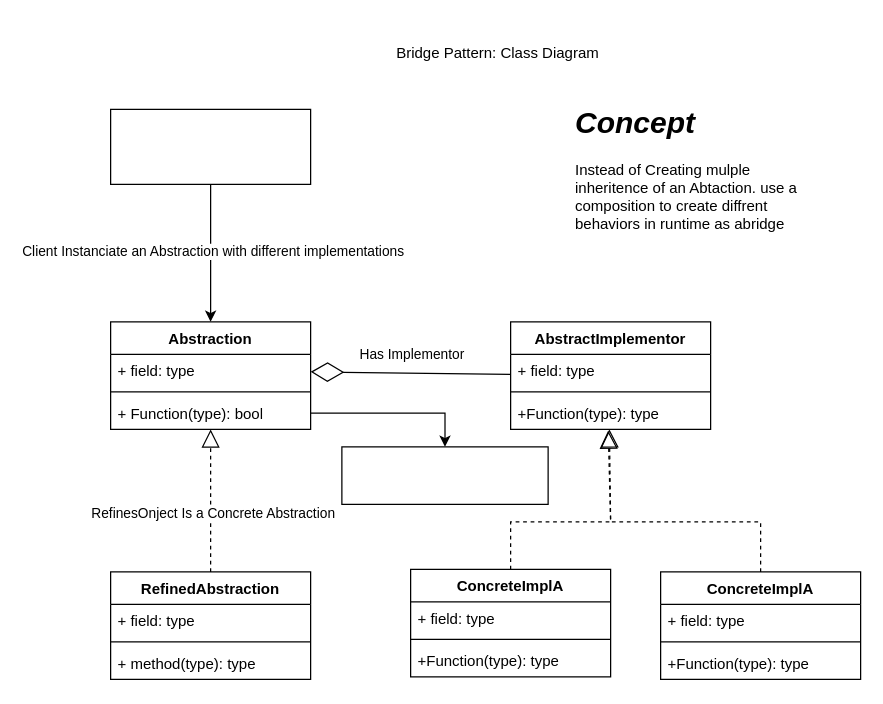
Image size: 883x704. Some labels were removed from this diagram. Here are the shapes that lost their labels. From the top down, the centre of each, then its label:
(x=210, y=146): Client
(x=444, y=475): Implementor.Function
